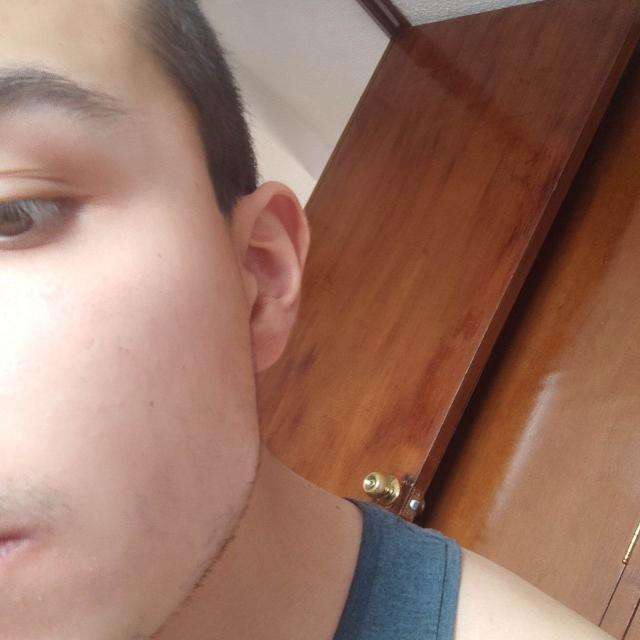ear: (237, 182, 309, 371)
